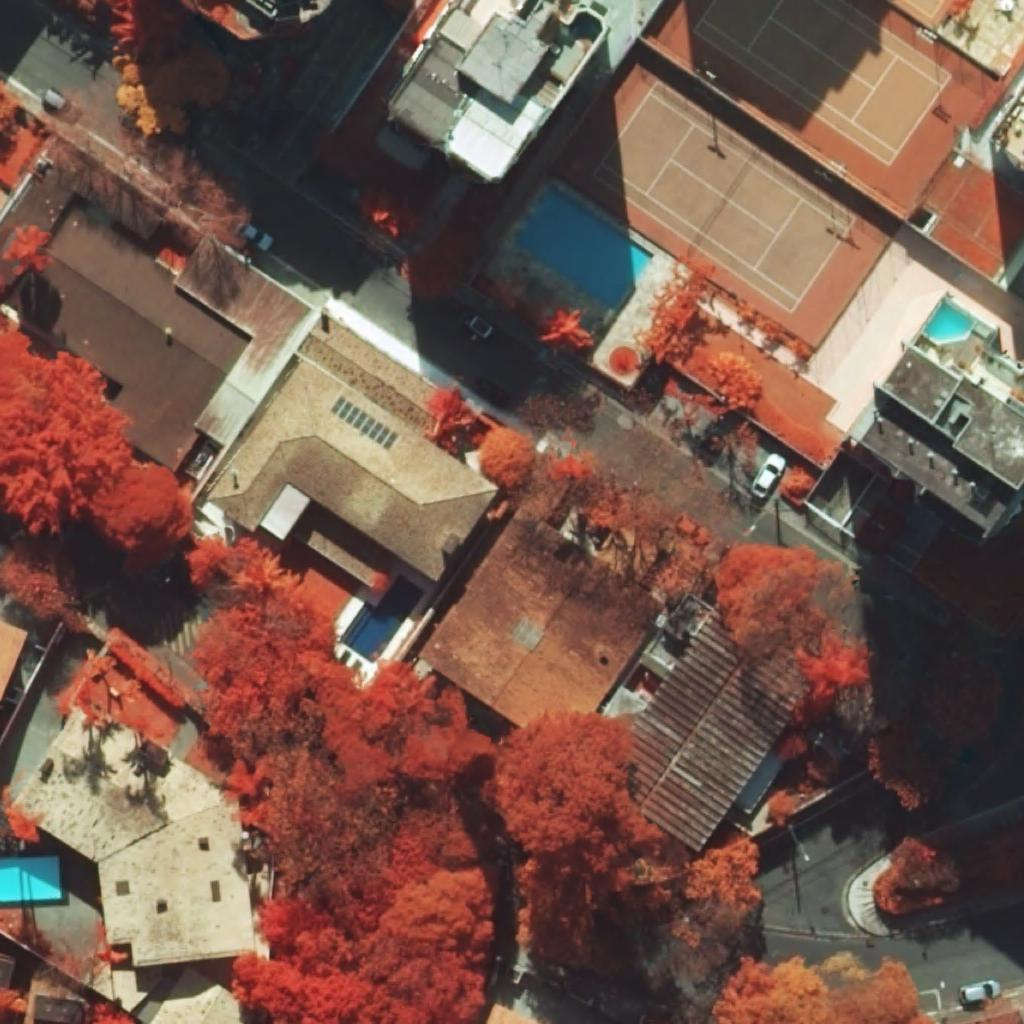pool: (515, 187, 654, 311), (339, 575, 424, 664), (0, 856, 61, 902), (924, 303, 974, 341)
